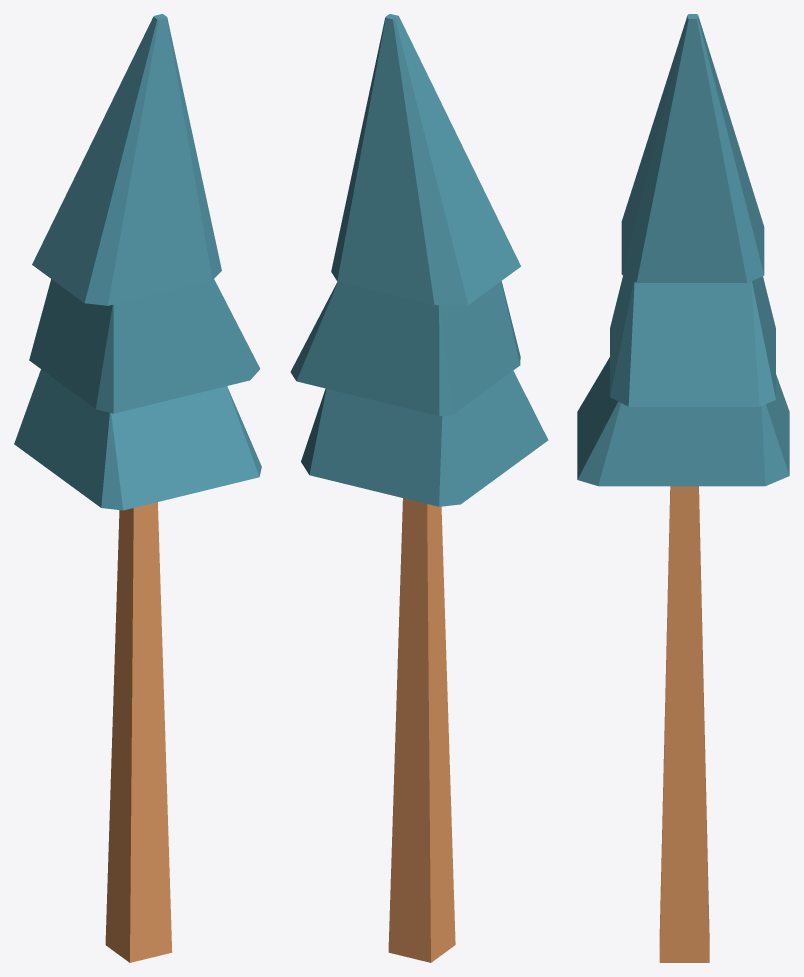
Rendered from tree_pine_tallSquare.fbx.
3 renders of one model, left to right at view 1: azimuth 30°, elevation 25°; view 2: azimuth 150°, elevation 25°; view 3: azimuth 270°, elevation 25°, orthographic. The views are drawn at different scales.
Parts seen in each view (by area): view 1: tree_pine_tallSquare; view 2: tree_pine_tallSquare; view 3: tree_pine_tallSquare.
Boxes of the visible parts, x1,y1,x2,y2 form: tree_pine_tallSquare: (14, 14, 261, 962); tree_pine_tallSquare: (290, 14, 548, 962); tree_pine_tallSquare: (577, 14, 789, 962).
Bounding box in the file's own units: 3.86 × 19.35 × 3.92.
